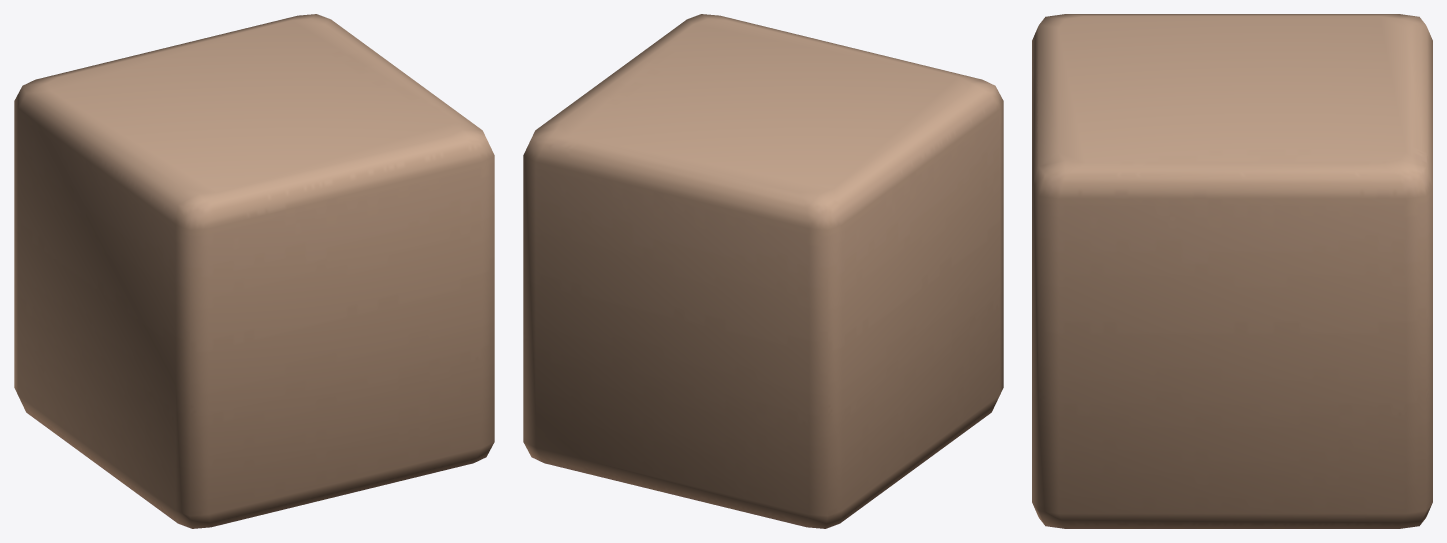
Rendered from Props.fbx.
3 views of the same model, side by side, from view 1: azimuth 30°, elevation 25°; view 2: azimuth 150°, elevation 25°; view 3: azimuth 270°, elevation 25° (orthographic). The views are drawn at different scales.
Visible parts, largest first — view 1: Box1-6; view 2: Box1-6; view 3: Box1-6.
Part boxes in pixels (box(x1,y1,x2,y2)): Box1-6: box(14, 14, 494, 528); Box1-6: box(523, 14, 1003, 528); Box1-6: box(1032, 14, 1432, 528).
Size of the model in its own units: 1.95 by 1.95 by 1.95.
